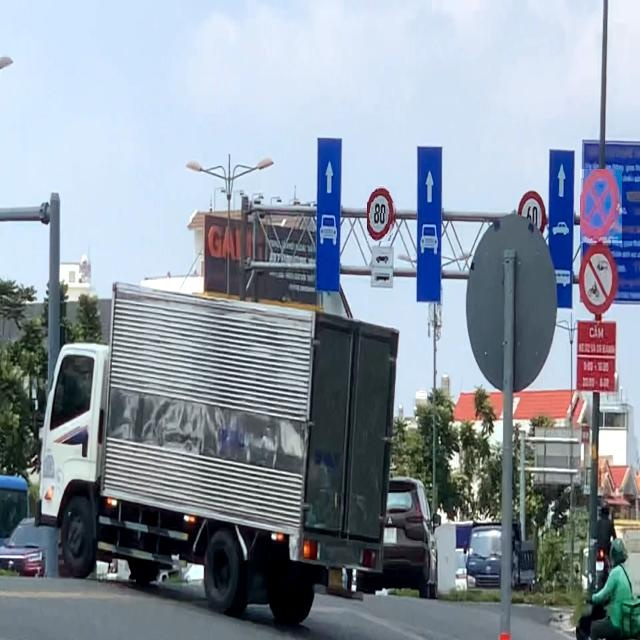bien_cam: (580, 169, 622, 243), (367, 186, 397, 241)
